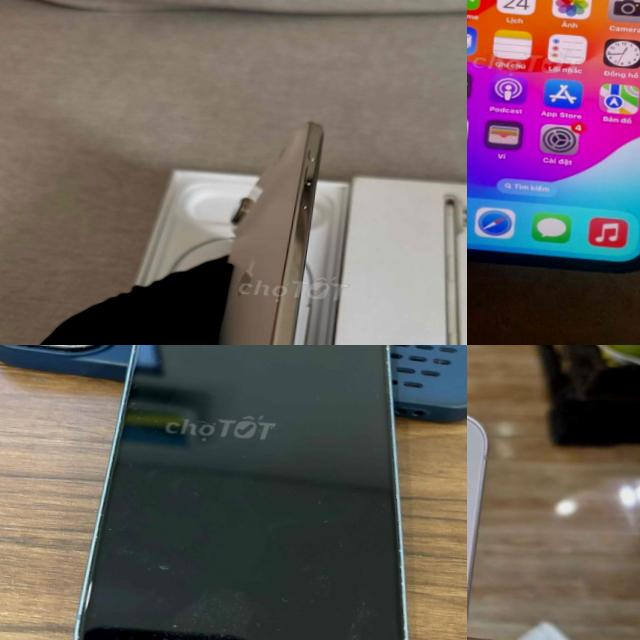gen_11: (467, 0, 640, 279)
gen_14: (51, 345, 437, 640)
gen_17: (188, 111, 334, 345)
scratch: (302, 492, 358, 550), (132, 549, 186, 579)
